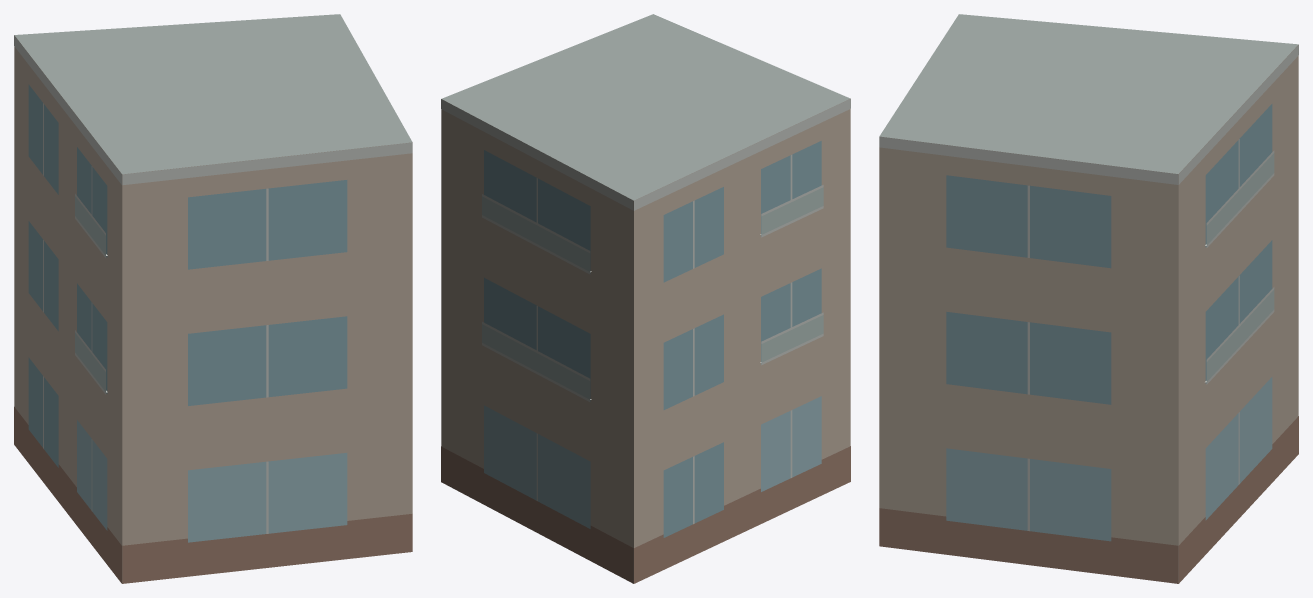
Rendered from survey-upis-32499727.glb.
The picture shows the model from 3 angles, left to right: view 1: azimuth 30°, elevation 25°; view 2: azimuth 150°, elevation 25°; view 3: azimuth 270°, elevation 25°; orthographic projection. The views are drawn at different scales.
Parts seen in each view (by area): view 1: survey-upis-32499727.tmp; view 2: survey-upis-32499727.tmp; view 3: survey-upis-32499727.tmp.
Part boxes in pixels (x1,y1,x2,y2): survey-upis-32499727.tmp: (14,14,412,583); survey-upis-32499727.tmp: (441,14,850,583); survey-upis-32499727.tmp: (879,14,1298,583).
Bounding box in the file's own units: 7.68 × 9.15 × 8.5.
